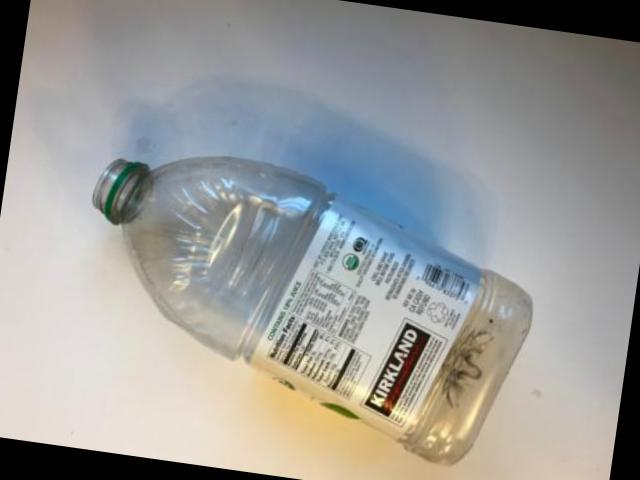plastic: (92, 155, 530, 462)
